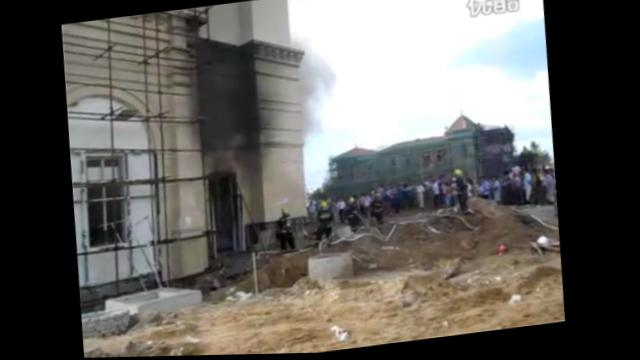smoke: (295, 42, 343, 134)
